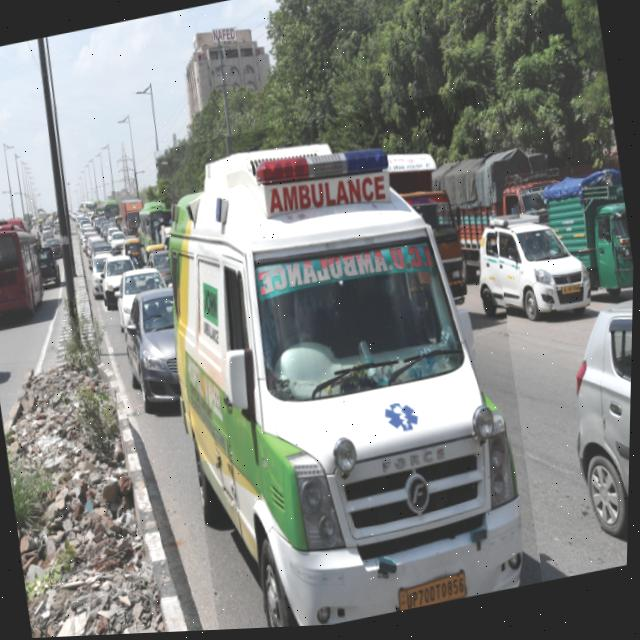Ambulance: (146, 89, 554, 635)
